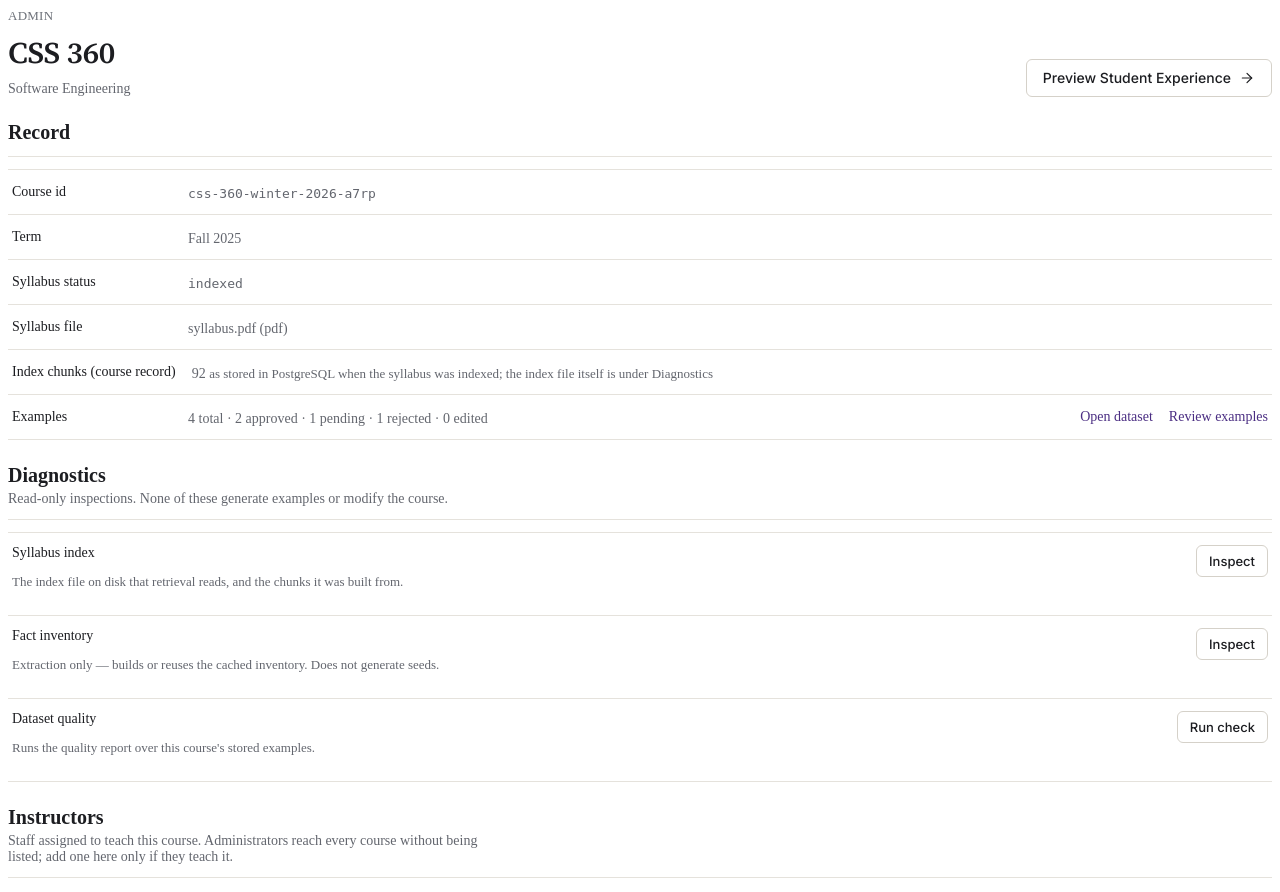
Test: AdminCourseDetailPage fact inventory › shows the inventory when the backend has it
Click the button "Inspect" in the row of "Fact inventory".
click(1232, 644)  # box [1196,628,1268,660]
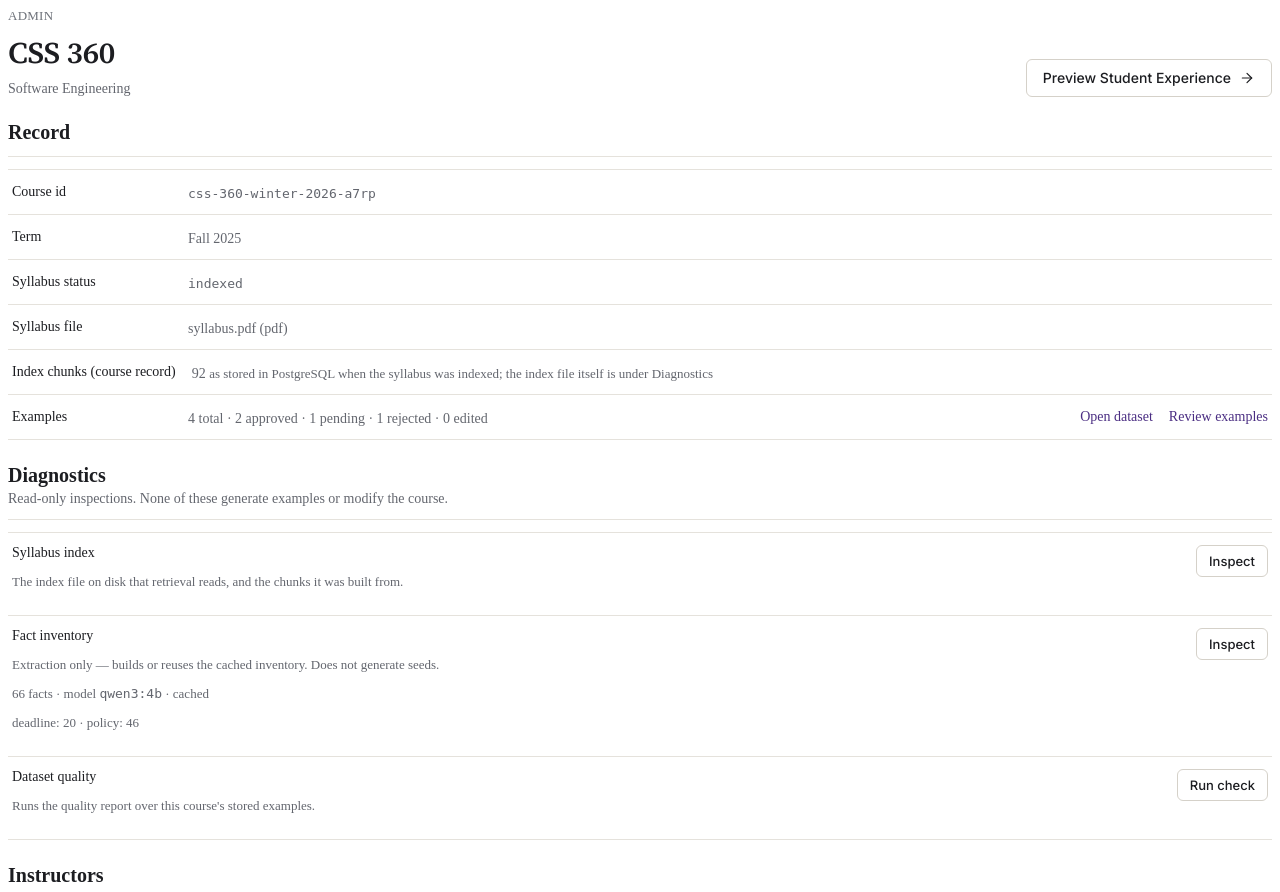
Expected: the list item "Fact inventory" shows "66 facts", [8,616,1272,757]
Expected: the list item "Fact inventory" shows "qwen3:4b", [99,686,162,701]
Expected: the list item "Fact inventory" shows "deadline: 20 · policy: 46", [12,715,139,730]
